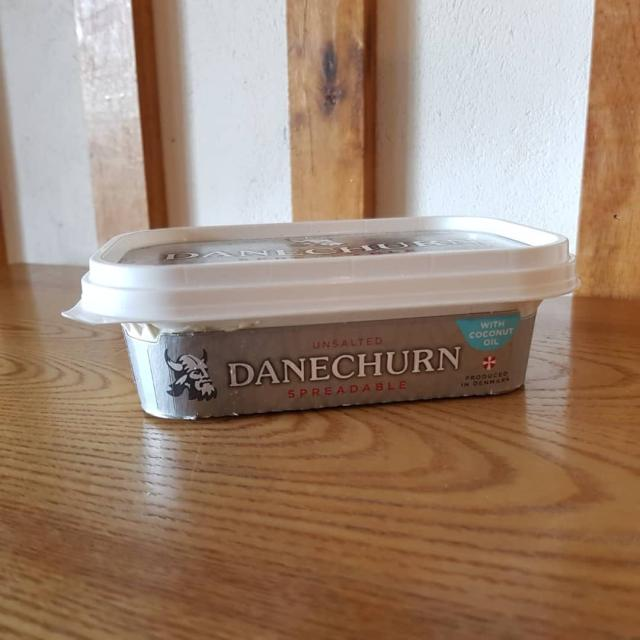plastic: (66, 214, 582, 423)
